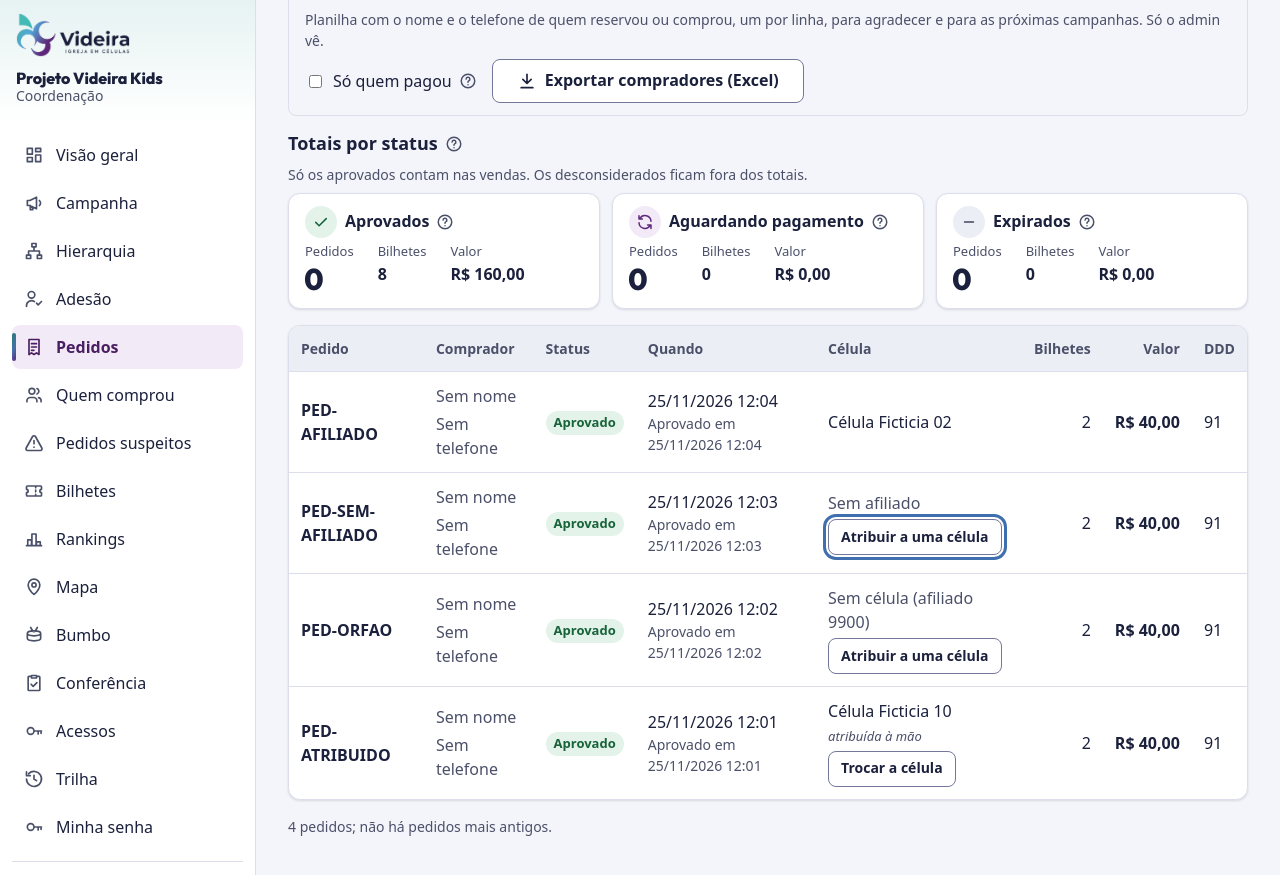
Test case: RIFA-088: o diálogo › atribui: o seletor agrupa por rede, manda o PUT com a célula e a linha mostra a célula com o sinal
(page scrolled)
Click the button "Atribuir a uma célula" below "Sem afiliado" at (915, 537), box x1=828 y1=519 x2=1002 y2=555
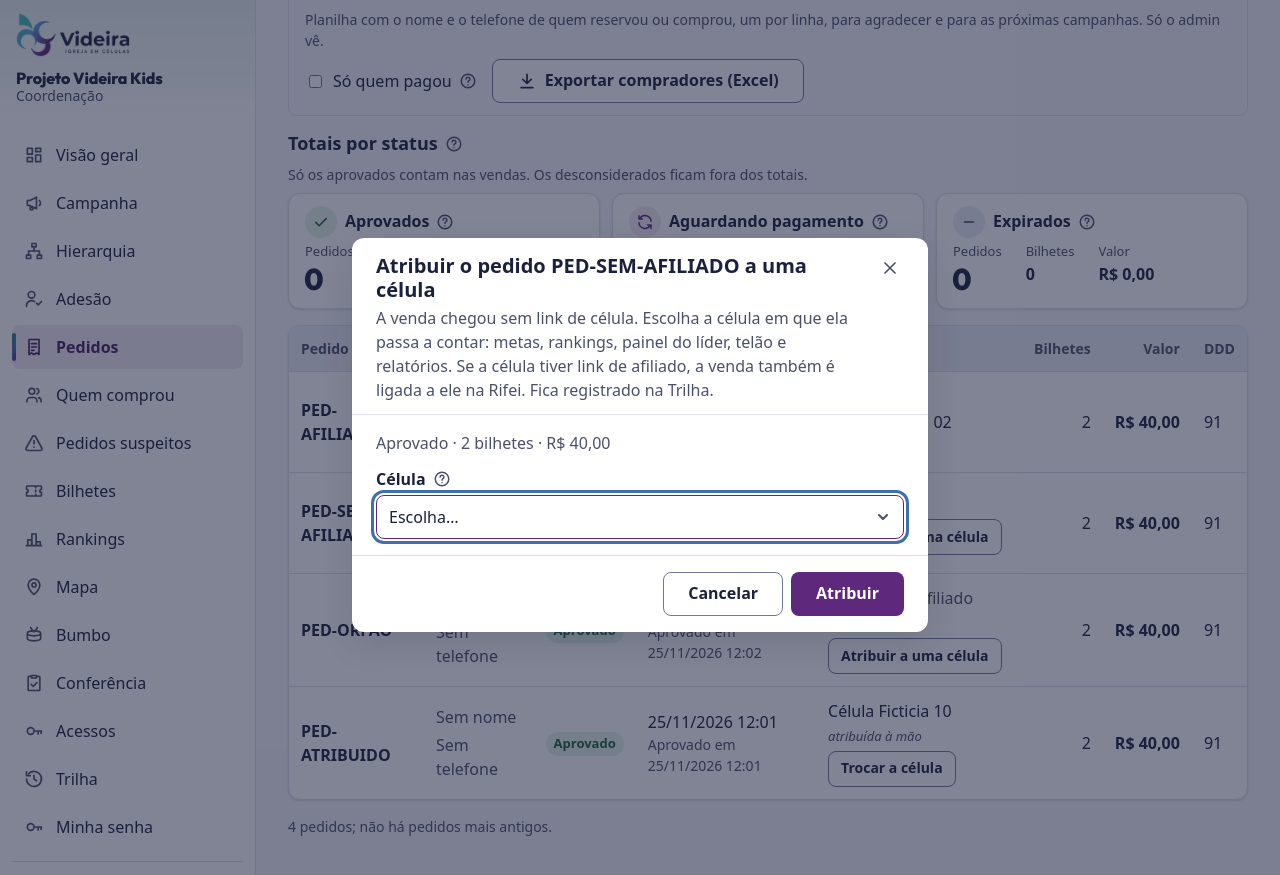
Click the button "Atribuir" at (848, 594), box x1=791 y1=572 x2=904 y2=616
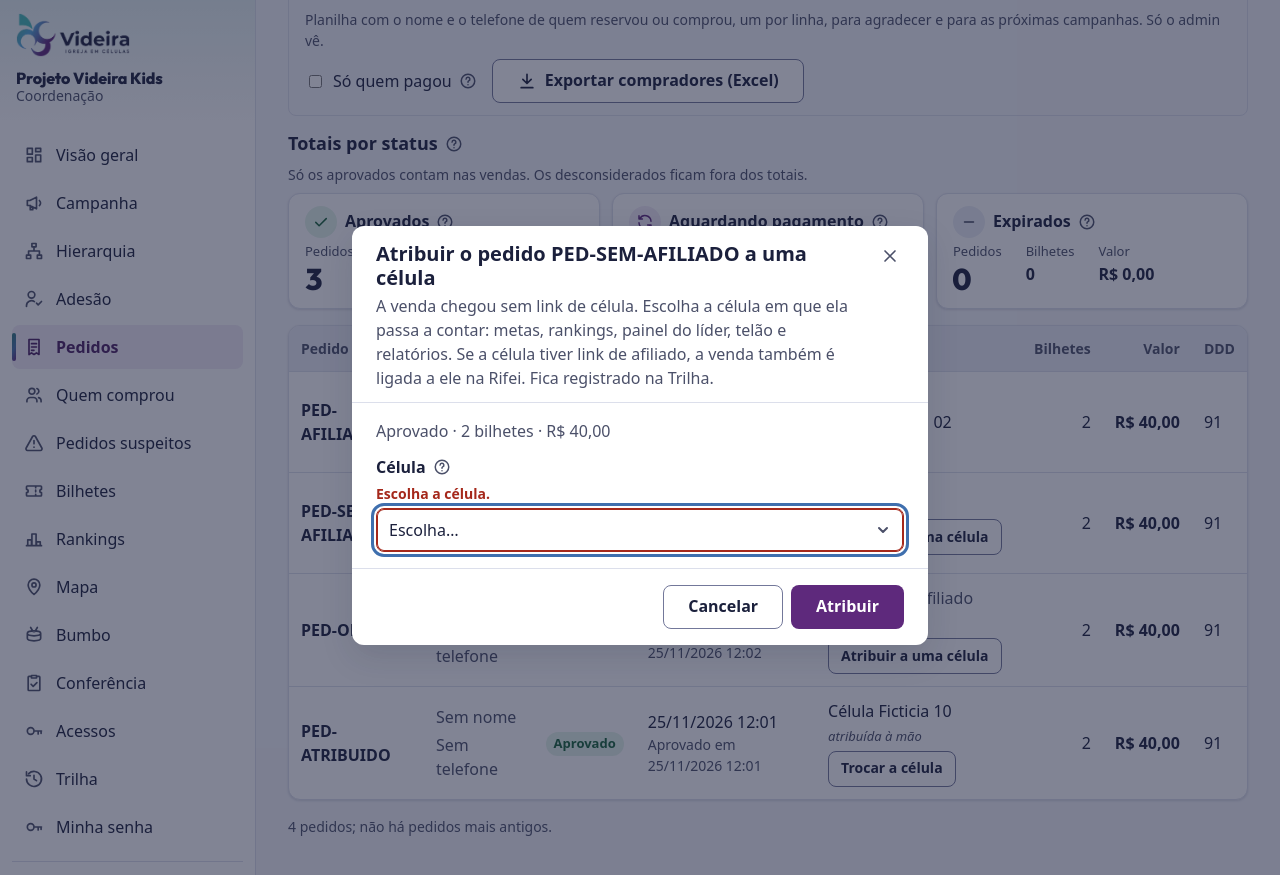
Expected: the text "Escolha a célula." is shown, x1=376 y1=484 x2=490 y2=502
Select "Célula Ficticia 10" in the dropdown labelled "Célula" at (640, 530), box x1=376 y1=508 x2=904 y2=552
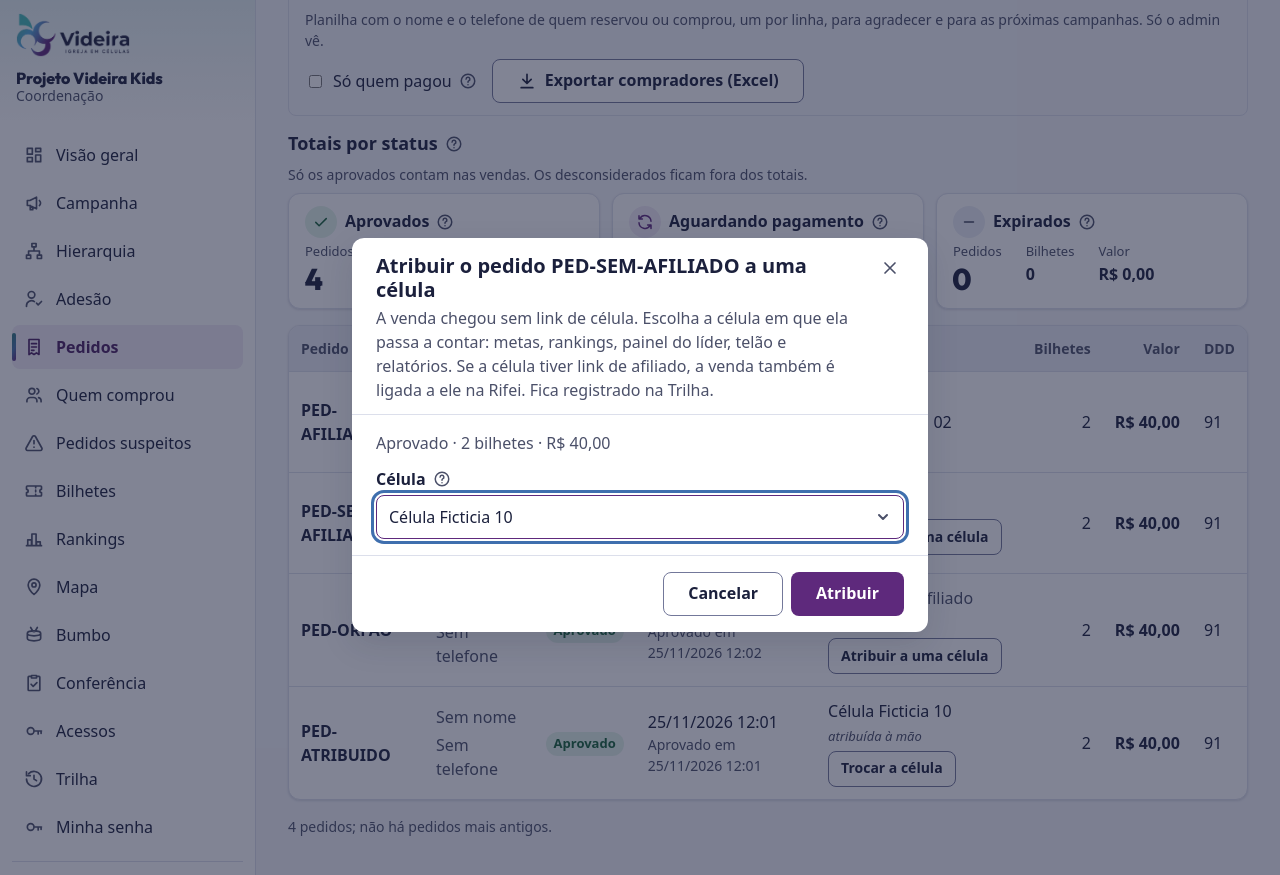
Click the button "Atribuir" at (848, 594), box x1=791 y1=572 x2=904 y2=616
(page scrolled)
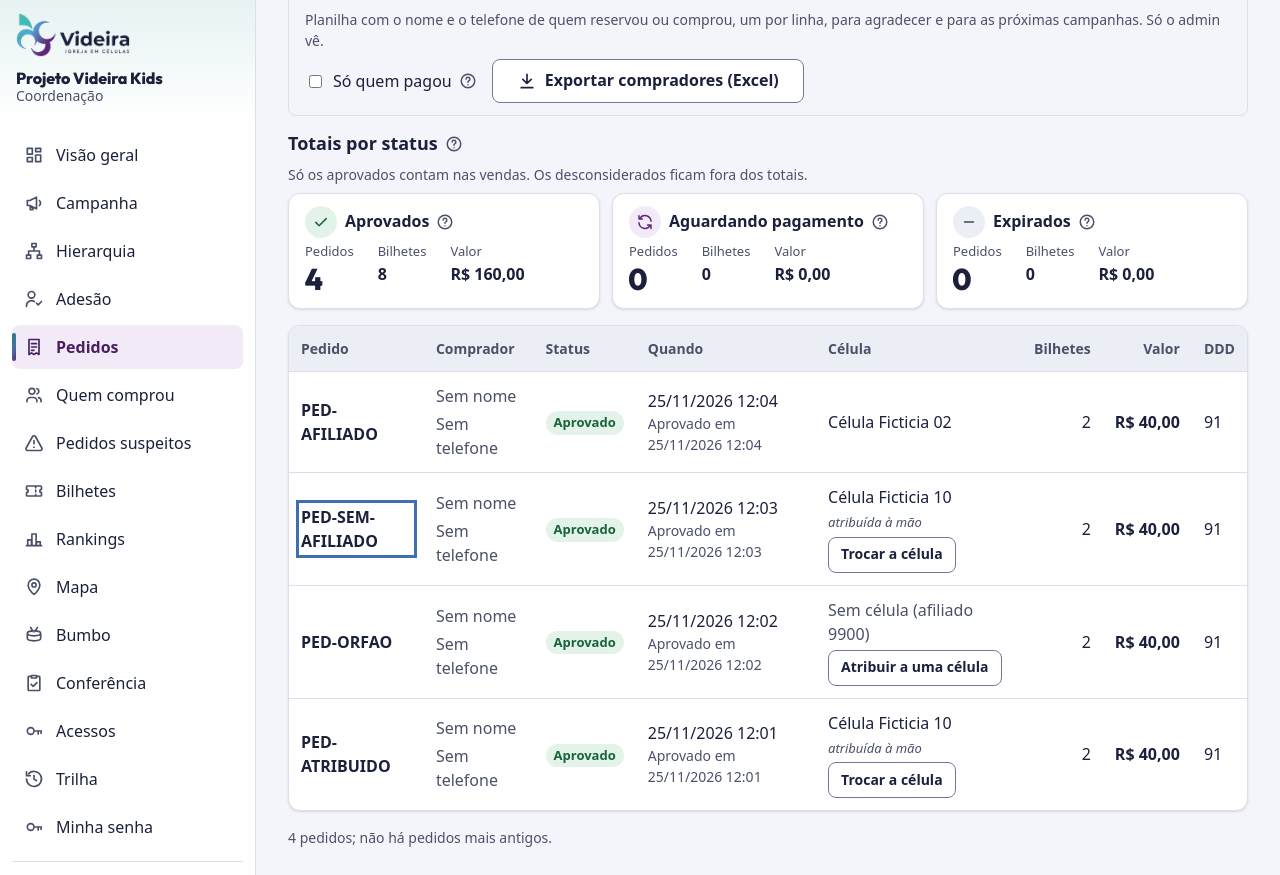
Expected: the dialog is gone
Expected: the row that starts with "PED-SEM-AFILIADO" shows "Célula Ficticia 10", x1=828 y1=486 x2=952 y2=508
Expected: the row that starts with "PED-SEM-AFILIADO" shows "atribuída à mão", x1=828 y1=513 x2=922 y2=531
